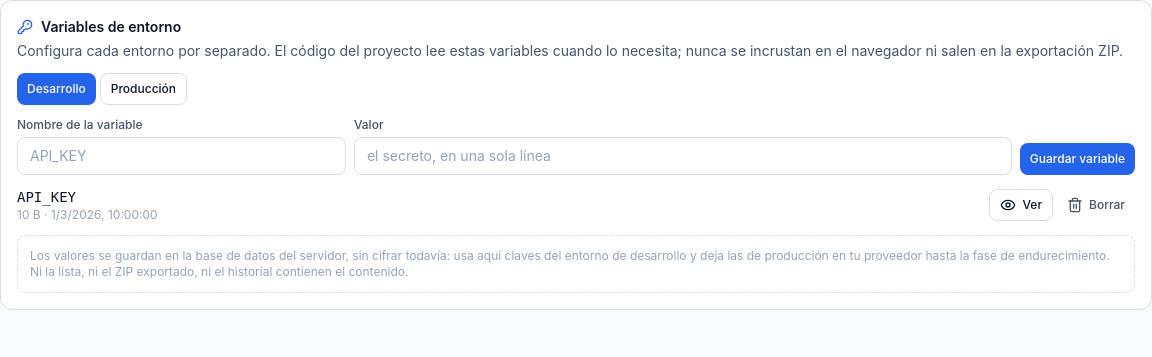
Scenario: ProjectEnv › cambiar de entorno esconde lo que se estaba mirando
Expected: the text "API_KEY" is shown, x1=17 y1=189 x2=76 y2=205
Click the button with aria-label "Ver valor de API_KEY".
click(1021, 205)  # box x1=990 y1=189 x2=1053 y2=221
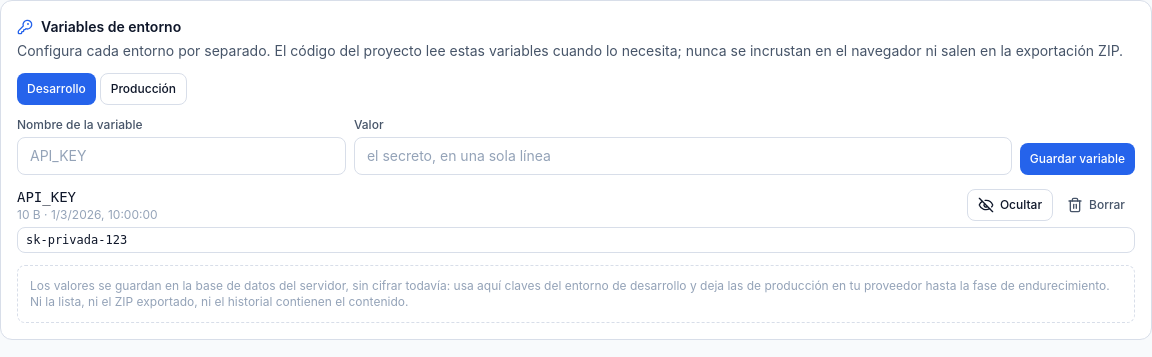
Now the text "sk-privada-123" is shown, box x1=17 y1=227 x2=1135 y2=253
Click the button "Producción".
click(143, 89)  # box x1=100 y1=73 x2=187 y2=105
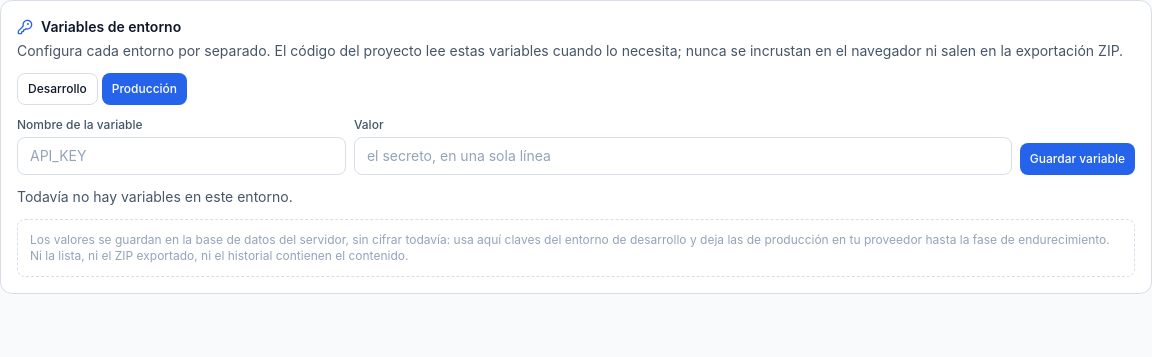
Now the text "Todavía no hay variables en este entorno." is shown, box x1=17 y1=188 x2=293 y2=205
Now the text "sk-privada-123" is gone
